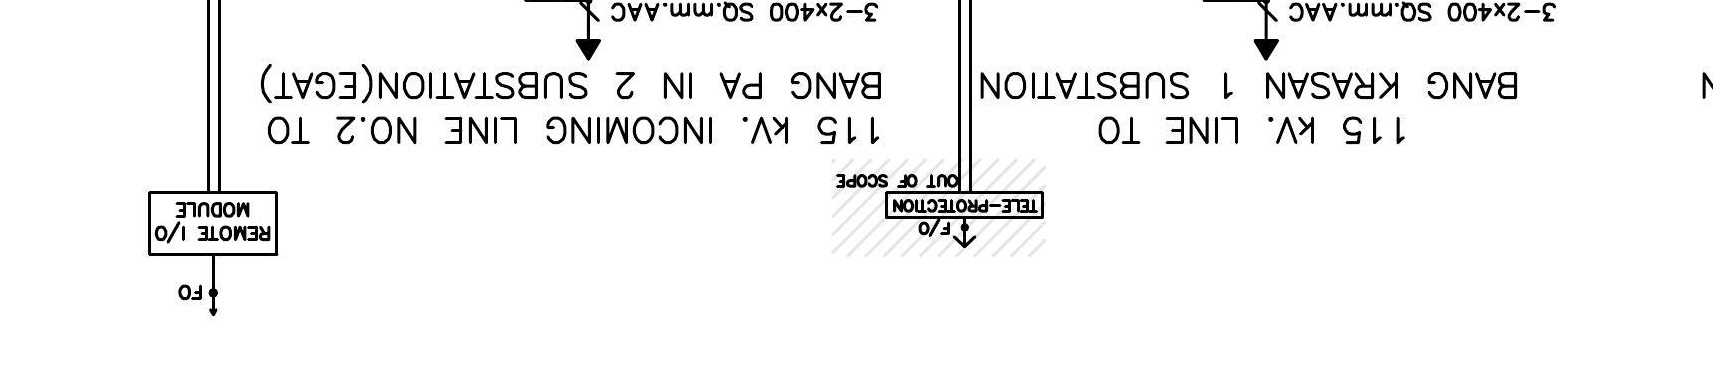remote_io_module: (147, 190, 279, 257)
tele_protection: (884, 190, 1044, 220)
